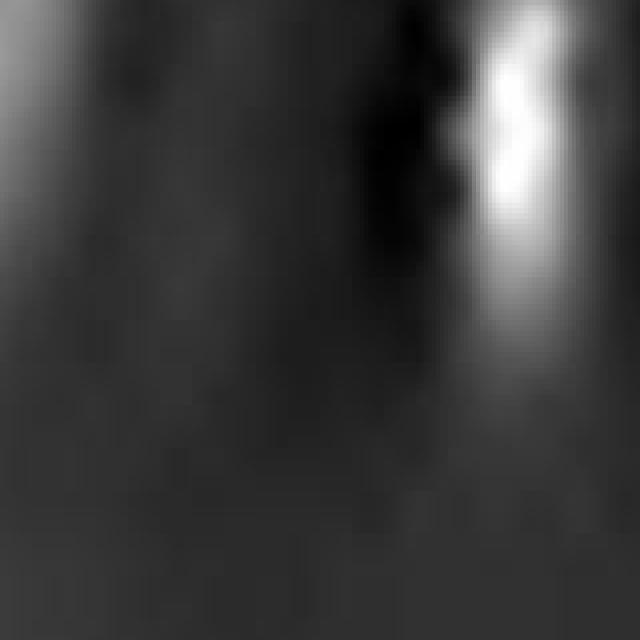person: (433, 1, 625, 396), (1, 1, 101, 294)
